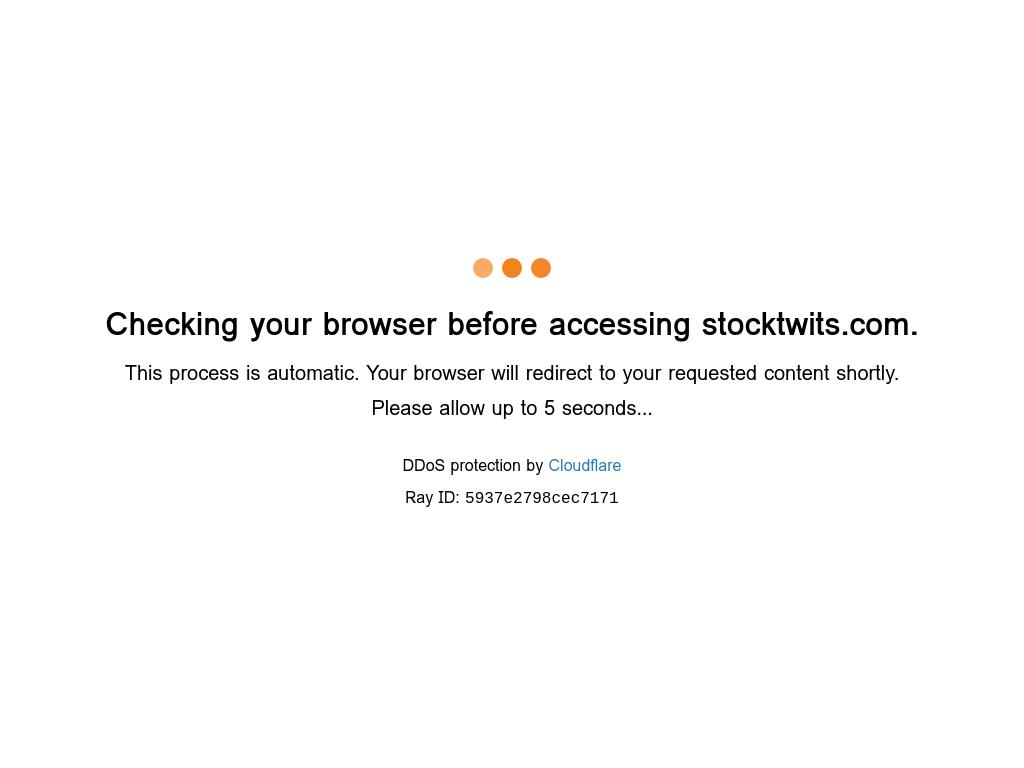heading: (105, 298, 692, 349), (690, 298, 919, 349)
image: (472, 258, 493, 278), (531, 258, 552, 278), (502, 258, 522, 278)
link: (548, 453, 621, 478)
text: (22, 360, 1002, 387), (22, 395, 1002, 422), (402, 453, 549, 478), (465, 490, 620, 508), (405, 485, 466, 510)
